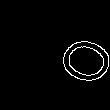O_NW: (36, 25, 110, 86)
